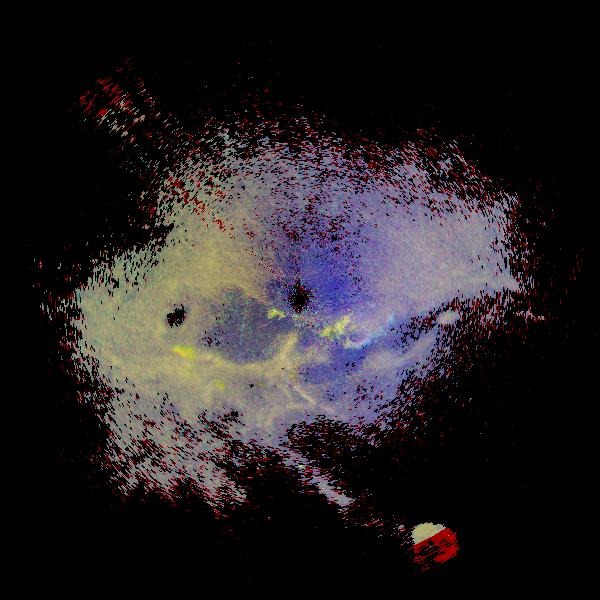roost: (149, 334, 209, 394)
